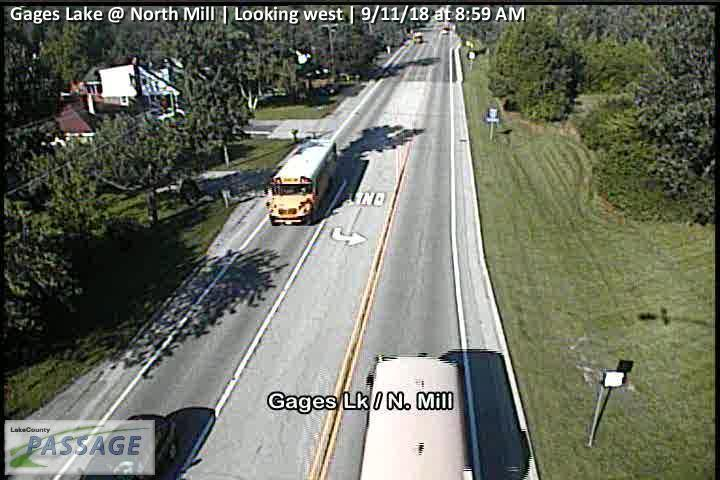Truck: (266, 140, 339, 227)
